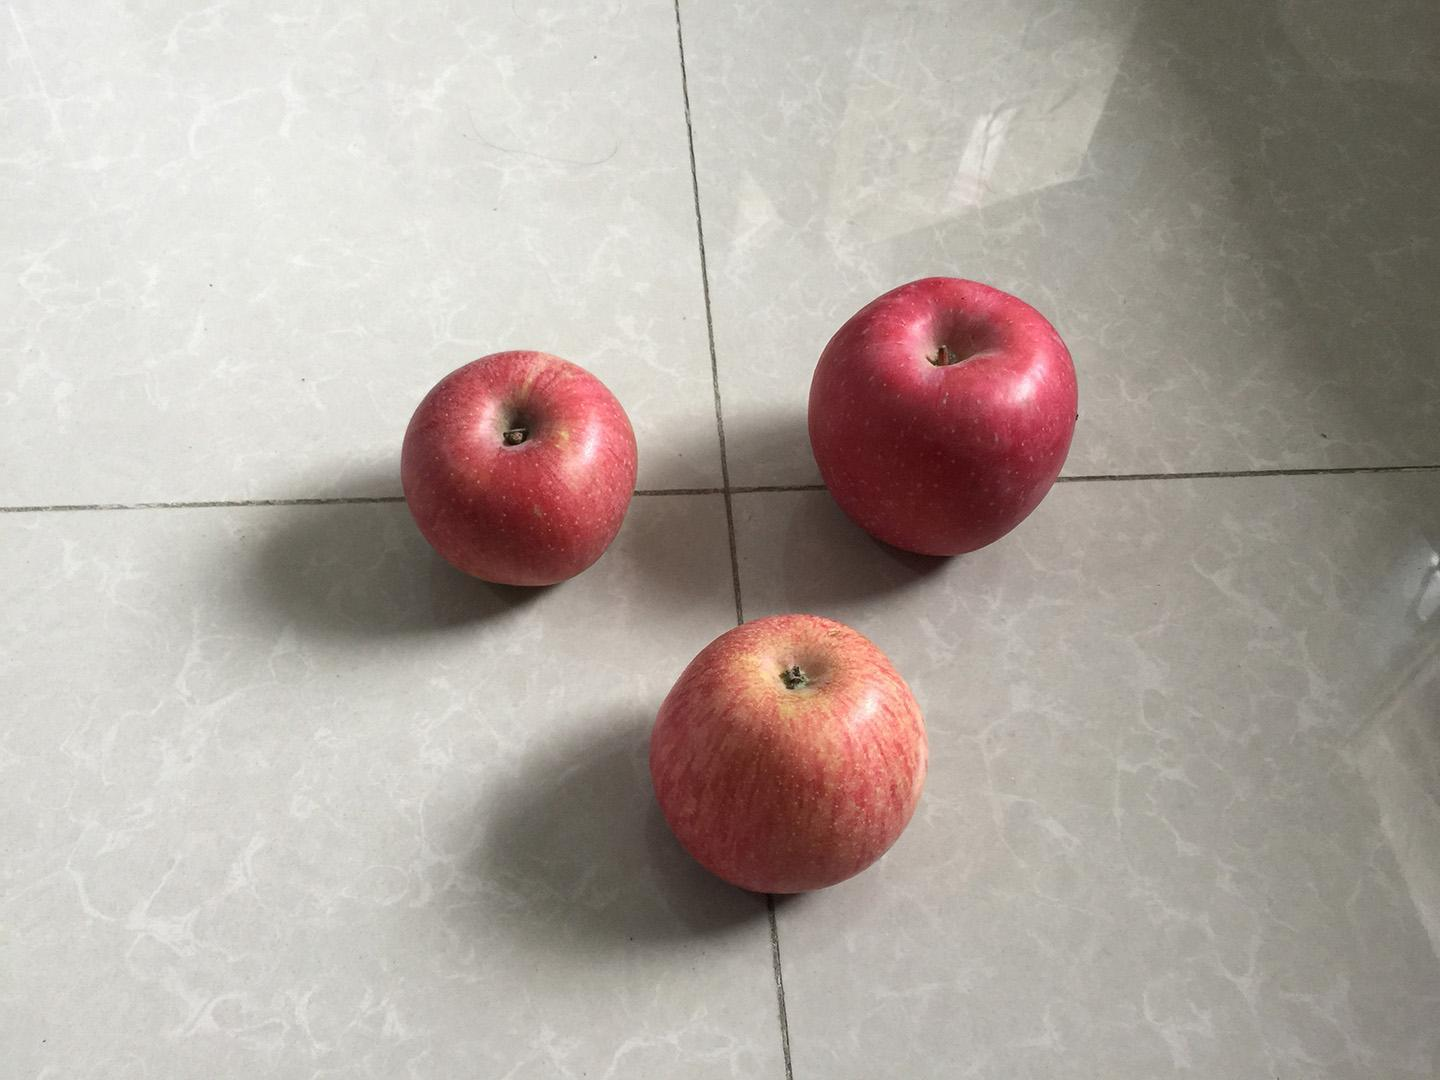apple: (646, 606, 938, 901), (801, 269, 1082, 562), (395, 344, 645, 596)
